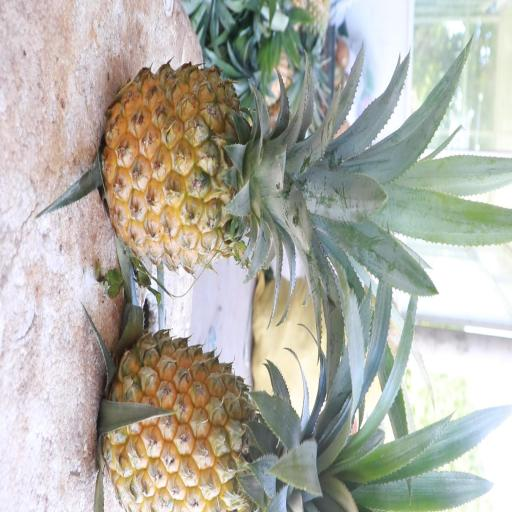Pineapple - v8 v1: (100, 54, 332, 280), (98, 326, 341, 512)
